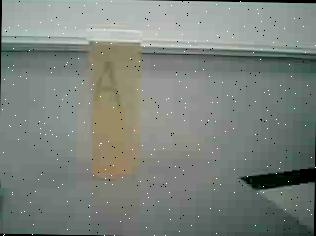Bottle A: (74, 20, 161, 190)
